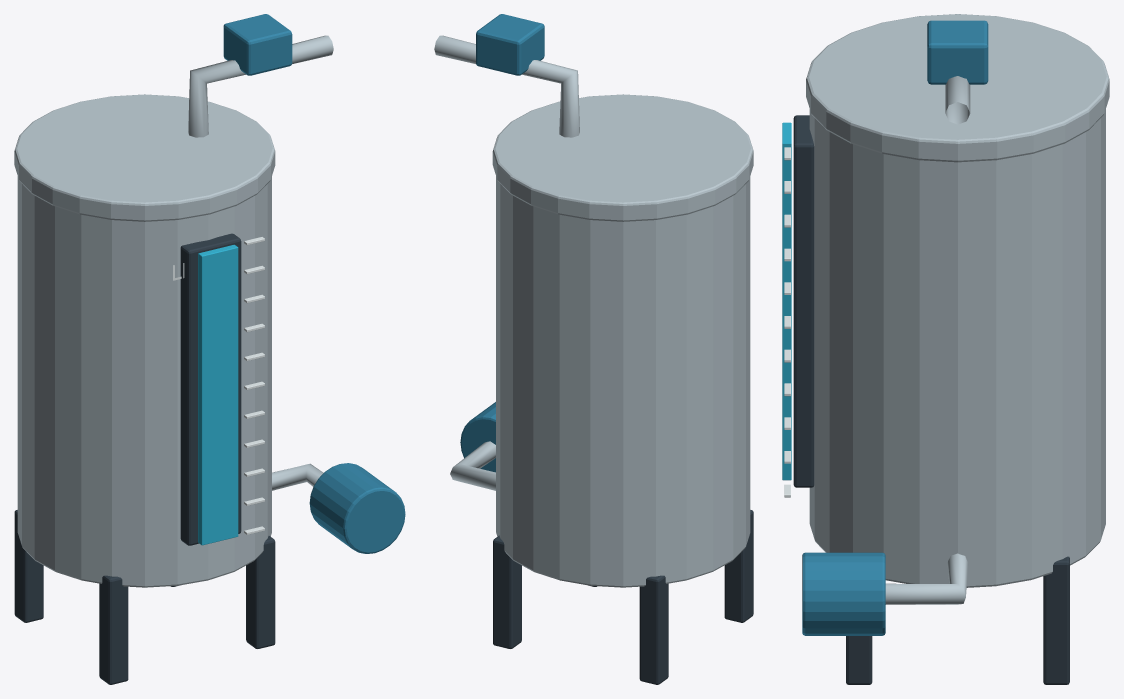
The model's file is tank.glb.
3 renders of one model, left to right at view 1: azimuth 30°, elevation 25°; view 2: azimuth 150°, elevation 25°; view 3: azimuth 270°, elevation 25°, orthographic. The views are drawn at different scales.
Parts seen in each view (by area): view 1: Buffer vessel, Tank lid, Level liquid, Level gauge backing, Feed pump, Inlet valve actuator, Vessel foot, Vessel foot.002, Tank inlet, Vessel foot.001, Tank outlet; view 2: Buffer vessel, Tank lid, Inlet valve actuator, Vessel foot.001, Tank inlet, Vessel foot.003, Vessel foot, Tank outlet, Feed pump; view 3: Buffer vessel, Tank lid, Level gauge backing, Feed pump, Inlet valve actuator, Vessel foot.003, Level liquid, Tank outlet, Vessel foot.002, Tank inlet.
Boxes of the visible parts, <box> form: Buffer vessel: <box>17,176,271,587</box>; Tank lid: <box>14,94,275,221</box>; Level liquid: <box>198,244,238,545</box>; Level gauge backing: <box>180,233,241,545</box>; Feed pump: <box>309,463,405,553</box>; Inlet valve actuator: <box>223,14,292,75</box>; Vessel foot: <box>99,575,128,684</box>; Vessel foot.002: <box>246,536,275,648</box>; Tank inlet: <box>188,35,333,137</box>; Vessel foot.001: <box>14,510,43,622</box>; Tank outlet: <box>272,463,323,490</box>; Buffer vessel: <box>496,176,750,587</box>; Tank lid: <box>492,94,753,221</box>; Inlet valve actuator: <box>476,14,544,75</box>; Vessel foot.001: <box>639,575,668,684</box>; Tank inlet: <box>434,35,579,137</box>; Vessel foot.003: <box>493,535,521,648</box>; Vessel foot: <box>724,510,753,622</box>; Tank outlet: <box>450,441,495,490</box>; Feed pump: <box>460,402,495,472</box>; Buffer vessel: <box>809,109,1105,587</box>; Tank lid: <box>806,14,1109,162</box>; Level gauge backing: <box>793,115,814,487</box>; Feed pump: <box>802,552,885,635</box>; Inlet valve actuator: <box>927,20,988,84</box>; Vessel foot.003: <box>1043,556,1069,684</box>; Level liquid: <box>782,122,791,480</box>; Tank outlet: <box>885,553,968,604</box>; Vessel foot.002: <box>846,636,872,684</box>; Tank inlet: <box>945,76,970,124</box>.
Bounding box in the file's own units: 1.09 × 1.95 × 0.8625.
